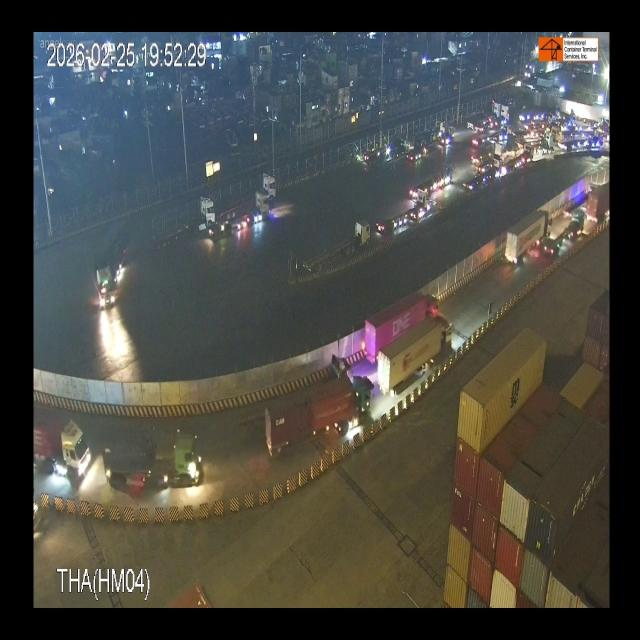truck: (95, 439, 206, 500), (256, 386, 376, 436), (368, 321, 458, 383), (27, 408, 91, 487), (356, 296, 440, 345), (305, 216, 373, 271), (499, 205, 553, 256), (543, 203, 586, 260), (169, 198, 213, 238), (224, 203, 270, 240), (588, 171, 610, 223), (255, 170, 278, 200)
